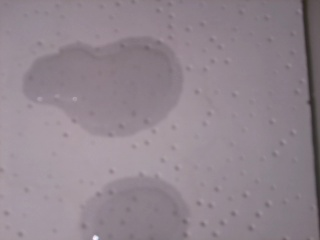Water_detected: (42, 45, 157, 126), (91, 181, 169, 240)
